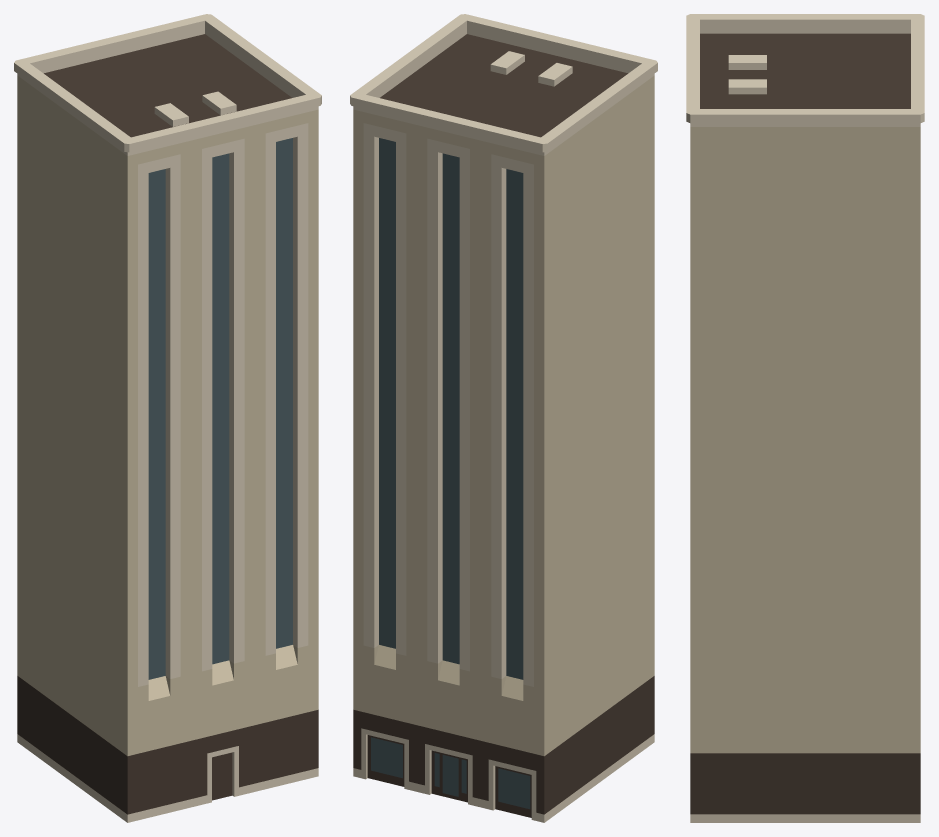
File: cairo-tower-a.glb
The picture shows the model from 3 angles, left to right: view 1: azimuth 30°, elevation 25°; view 2: azimuth 150°, elevation 25°; view 3: azimuth 270°, elevation 25°; orthographic projection. The views are drawn at different scales.
Parts seen in each view (by area): view 1: skyscraperF; view 2: skyscraperF; view 3: skyscraperF.
Boxes of the visible parts, <box> form: skyscraperF: <box>14,14,321,822</box>; skyscraperF: <box>350,14,657,822</box>; skyscraperF: <box>686,14,924,822</box>.
Size of the model in its own units: 1.24 by 4.08 by 1.24.
